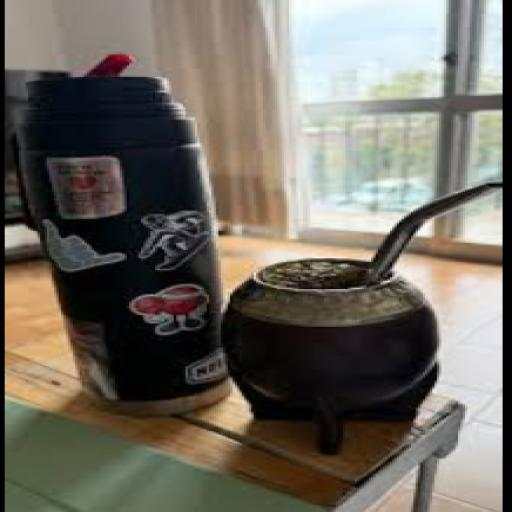mate: (225, 184, 500, 453)
termo: (19, 76, 228, 412)
